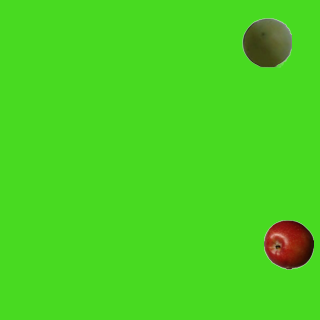Apple Braeburn: (263, 219, 313, 269)
Grape White 4: (241, 17, 291, 67)
